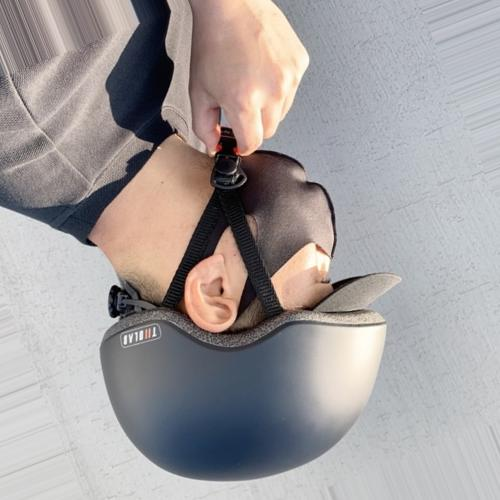with helmet: (99, 145, 402, 483)
